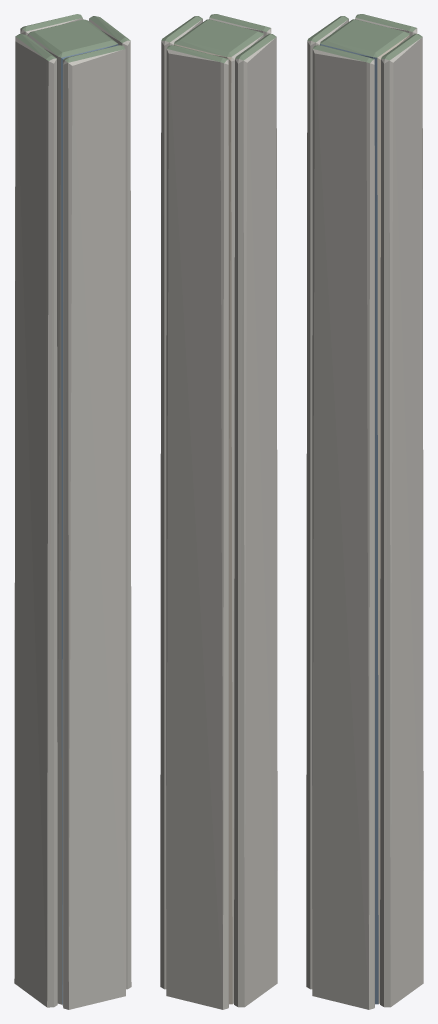
File: SM_Kit_Post_LOD1.glb
The picture shows the model from 3 angles, left to right: view 1: azimuth 30°, elevation 25°; view 2: azimuth 150°, elevation 25°; view 3: azimuth 330°, elevation 25°; orthographic projection.
Visible parts, largest first — view 1: SM_Kit_Post_LOD1; view 2: SM_Kit_Post_LOD1; view 3: SM_Kit_Post_LOD1.
Part boxes in pixels (x1=…): SM_Kit_Post_LOD1: x1=14, y1=14, x2=131, y2=1009; SM_Kit_Post_LOD1: x1=160, y1=14, x2=277, y2=1009; SM_Kit_Post_LOD1: x1=306, y1=14, x2=423, y2=1009.
Size of the model in its own units: 0.284 by 3 by 0.284.
